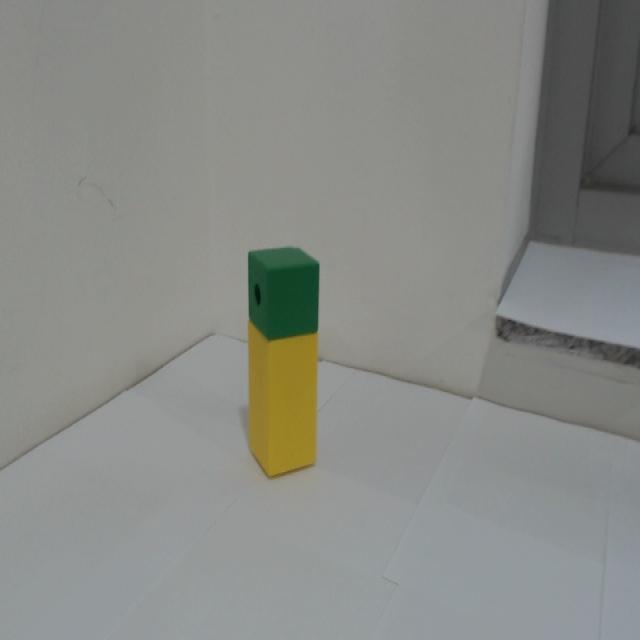cube: (239, 241, 331, 346)
